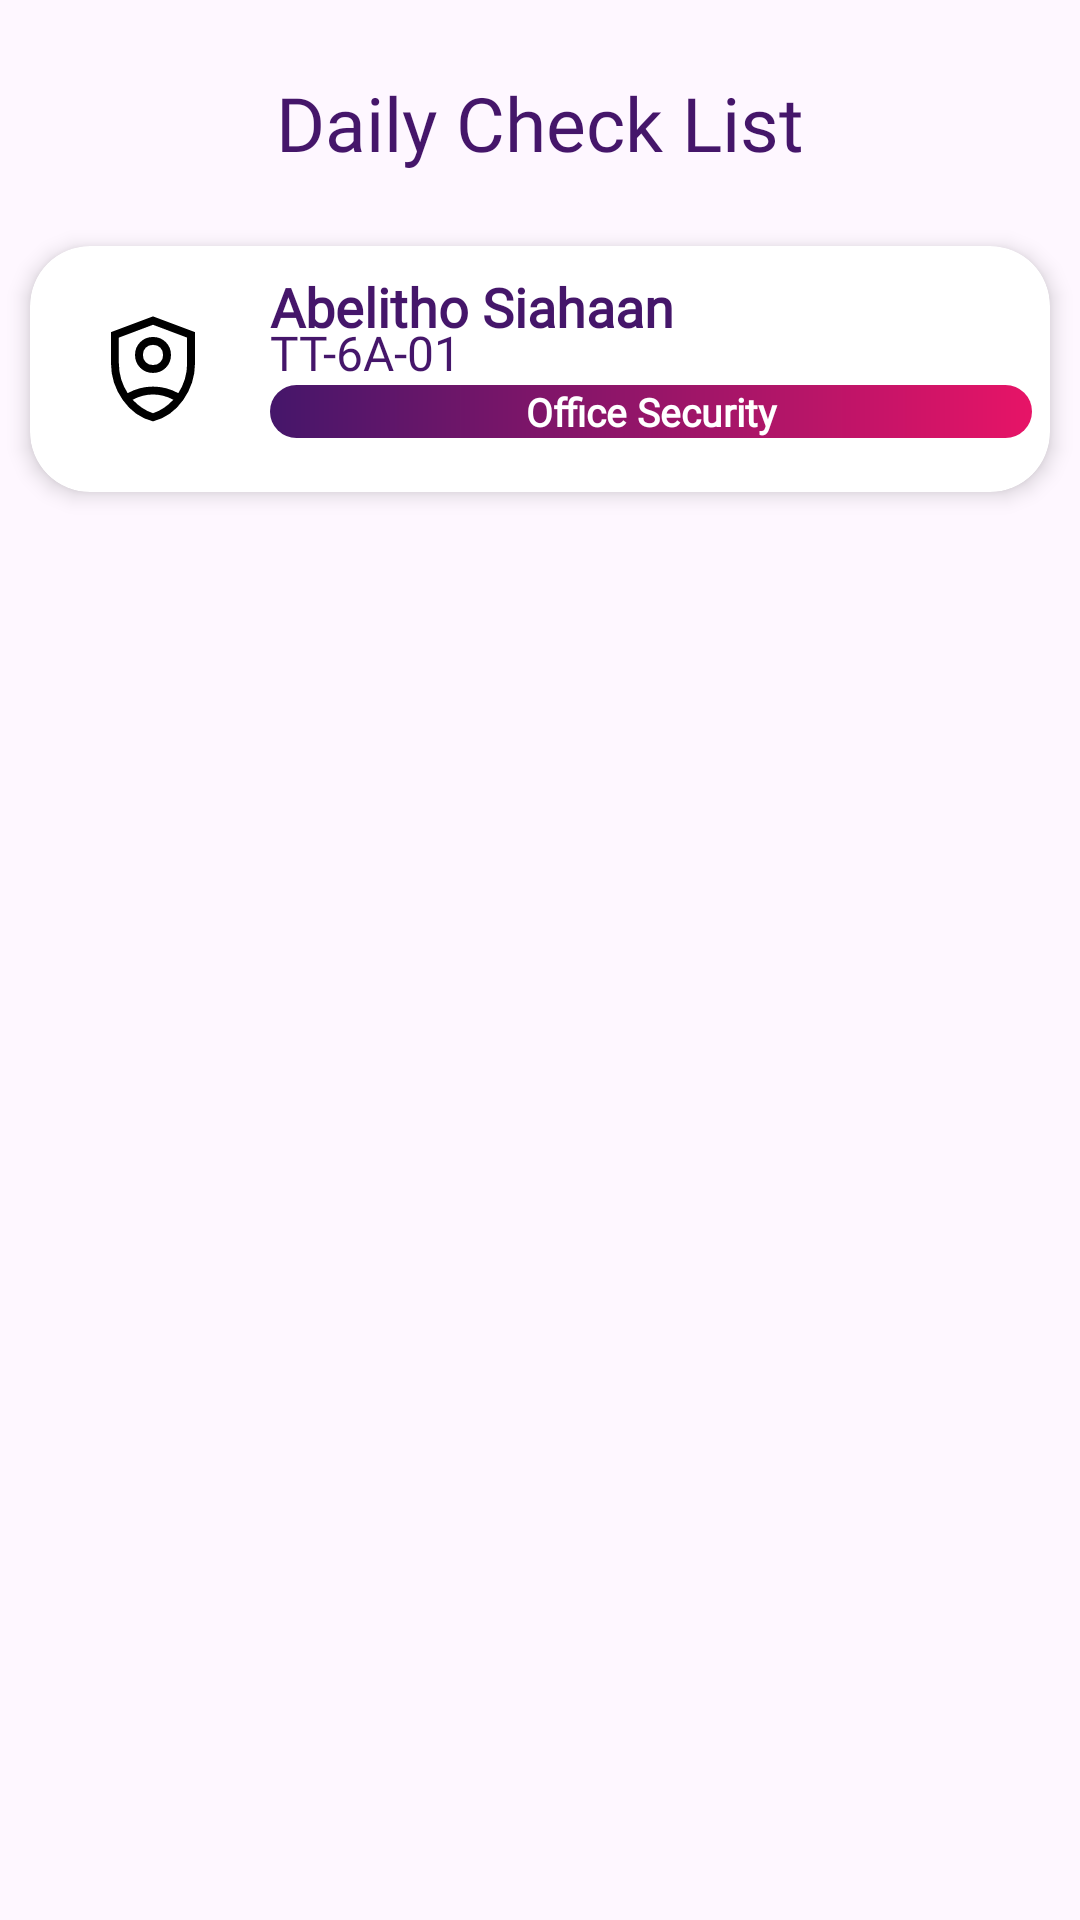

Icons on this 1080x1920 Android screen, each with its box as (x1, y1, x2, y2):
shield person: (111, 316, 195, 422)
